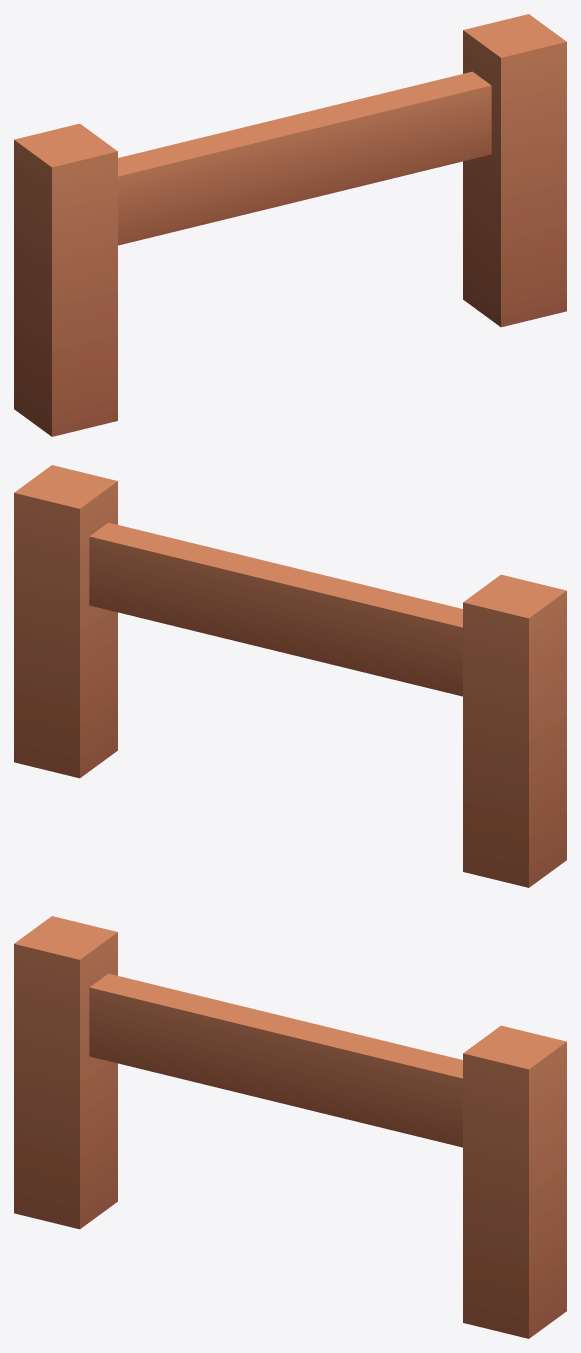
Rendered from kenney-tower-defense-wood-structure-part.glb.
The picture shows the model from 3 angles, top to bottom: view 1: azimuth 30°, elevation 25°; view 2: azimuth 150°, elevation 25°; view 3: azimuth 330°, elevation 25°; orthographic projection.
Parts seen in each view (by area): view 1: wood-structure-part; view 2: wood-structure-part; view 3: wood-structure-part.
Boxes of the visible parts, x1,y1,x2,y2 form: wood-structure-part: (14,14,566,436); wood-structure-part: (14,465,566,887); wood-structure-part: (14,916,566,1338).
Bounding box in the file's own units: 1 × 0.5001 × 0.1279.
1 material, 1 textured.
